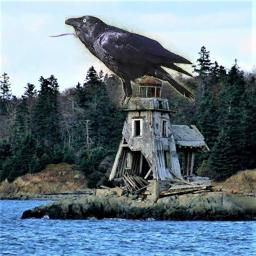Crow: (65, 15, 195, 108)
